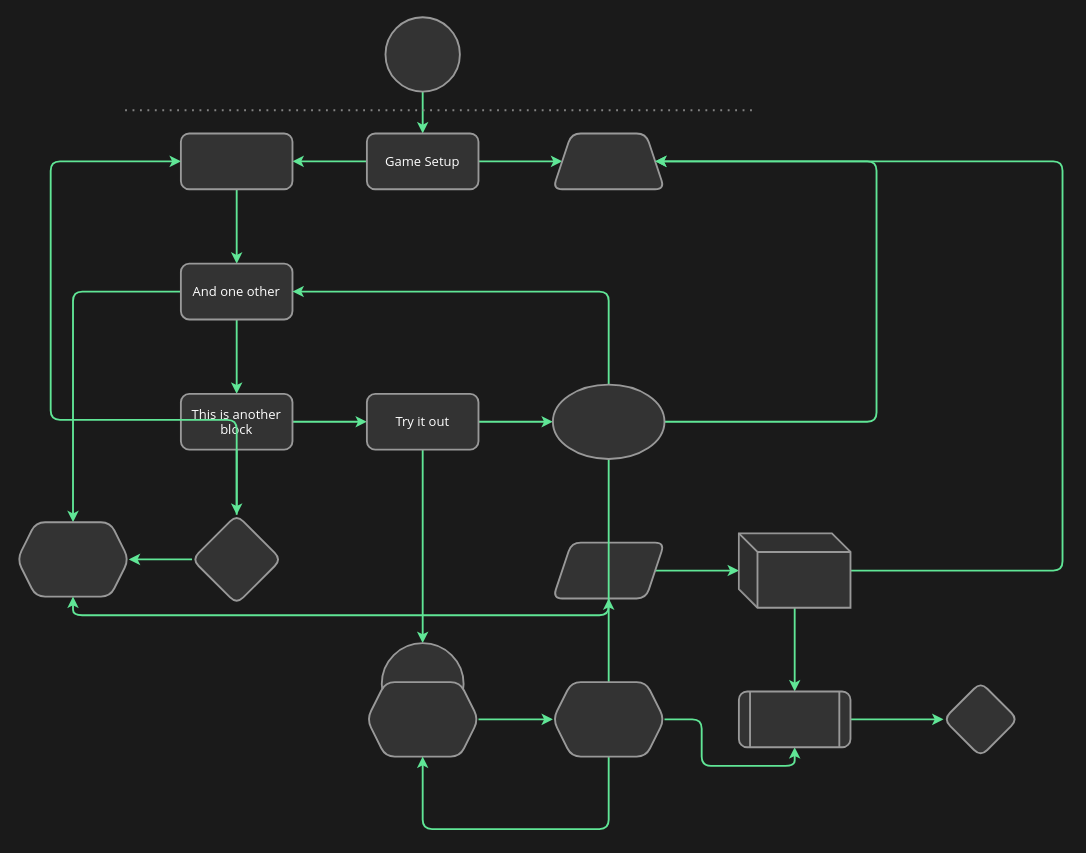
This 1086x853 diagram has some shape labels left out. The box of each missing label's shape, as (x1, y1, x2, y2) in pixels:
Start: (384, 16, 460, 92)
This: (179, 132, 293, 190)
